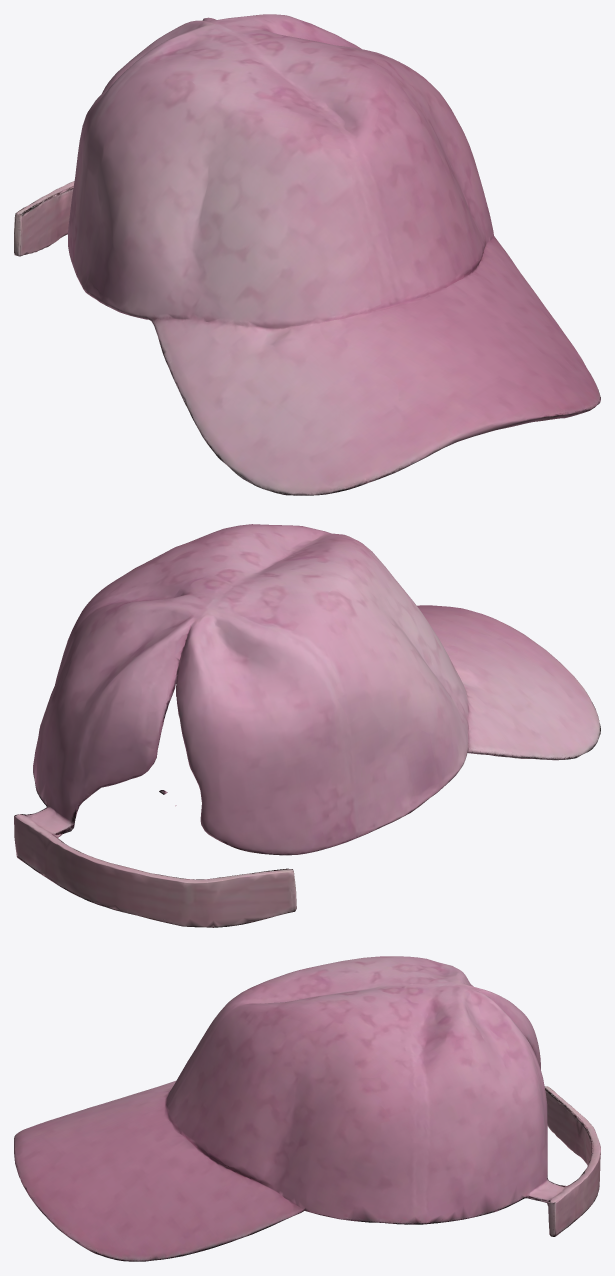
Rendered from accessoires.glb.
3 views of the same model, one above another, from view 1: azimuth 30°, elevation 25°; view 2: azimuth 150°, elevation 25°; view 3: azimuth 270°, elevation 25° (orthographic). The views are drawn at different scales.
Parts seen in each view (by area): view 1: geometry_0; view 2: geometry_0; view 3: geometry_0.
Boxes of the visible parts, x1,y1,x2,y2 form: geometry_0: (14, 14, 600, 495); geometry_0: (14, 524, 600, 927); geometry_0: (14, 956, 600, 1261).
Bounding box in the file's own units: 0.6188 × 0.3982 × 0.9999.
1 material, 1 textured.
